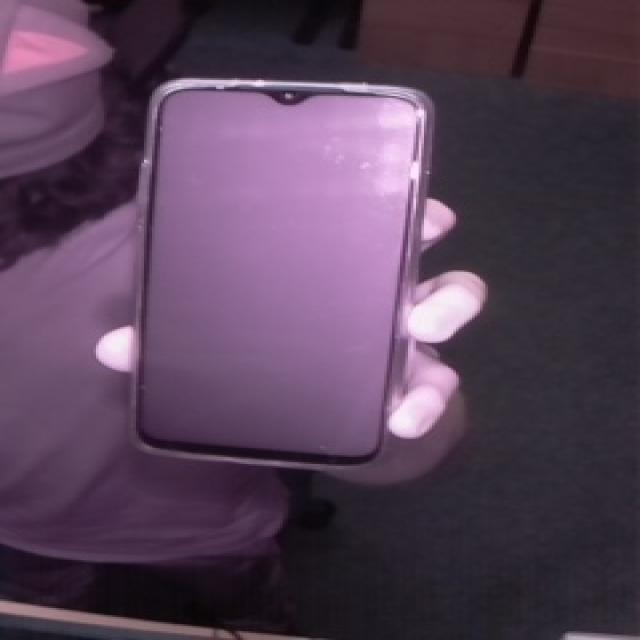phone: (117, 58, 458, 490)
